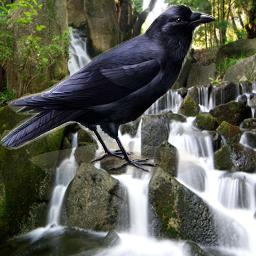Crow: (0, 4, 216, 175)
